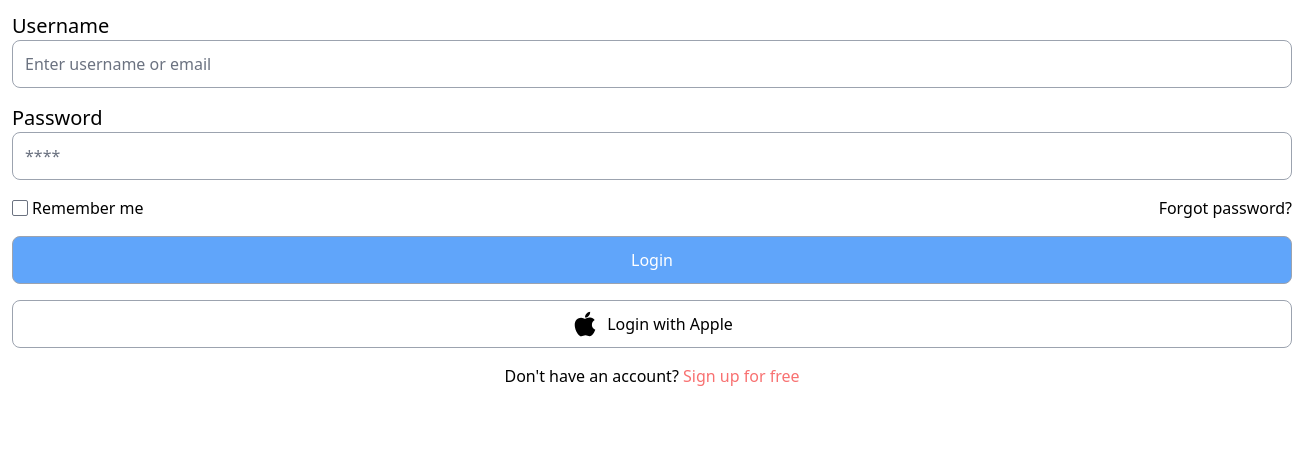
LoginForm › displays validation error messages when inputs are empty
Click the button "Login" at (652,260), box x1=12 y1=236 x2=1292 y2=284
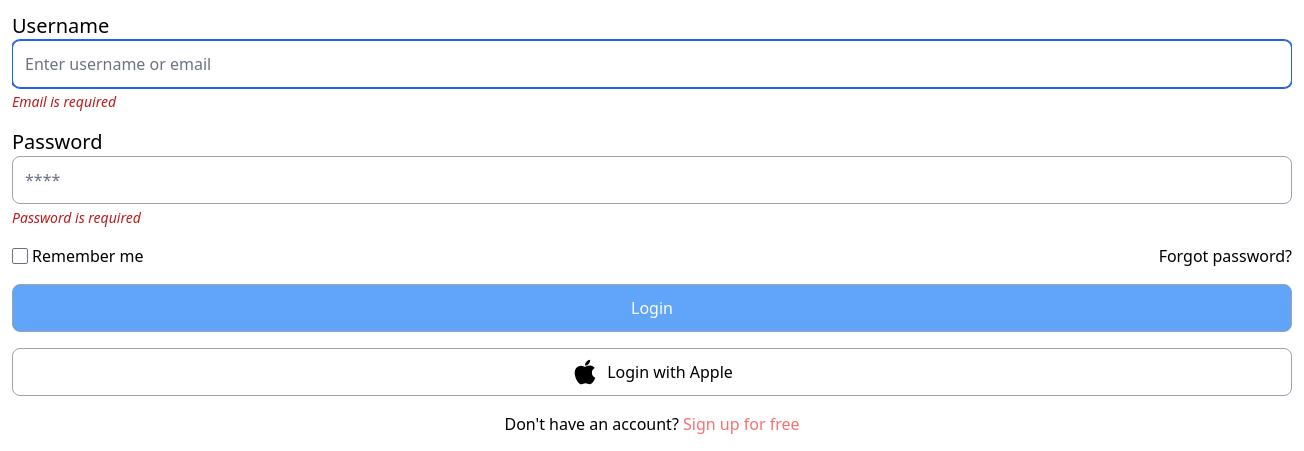
Expected: the text "Email is required" is shown, x1=12 y1=92 x2=116 y2=111
Expected: the text "Password is required" is shown, x1=12 y1=208 x2=141 y2=227
